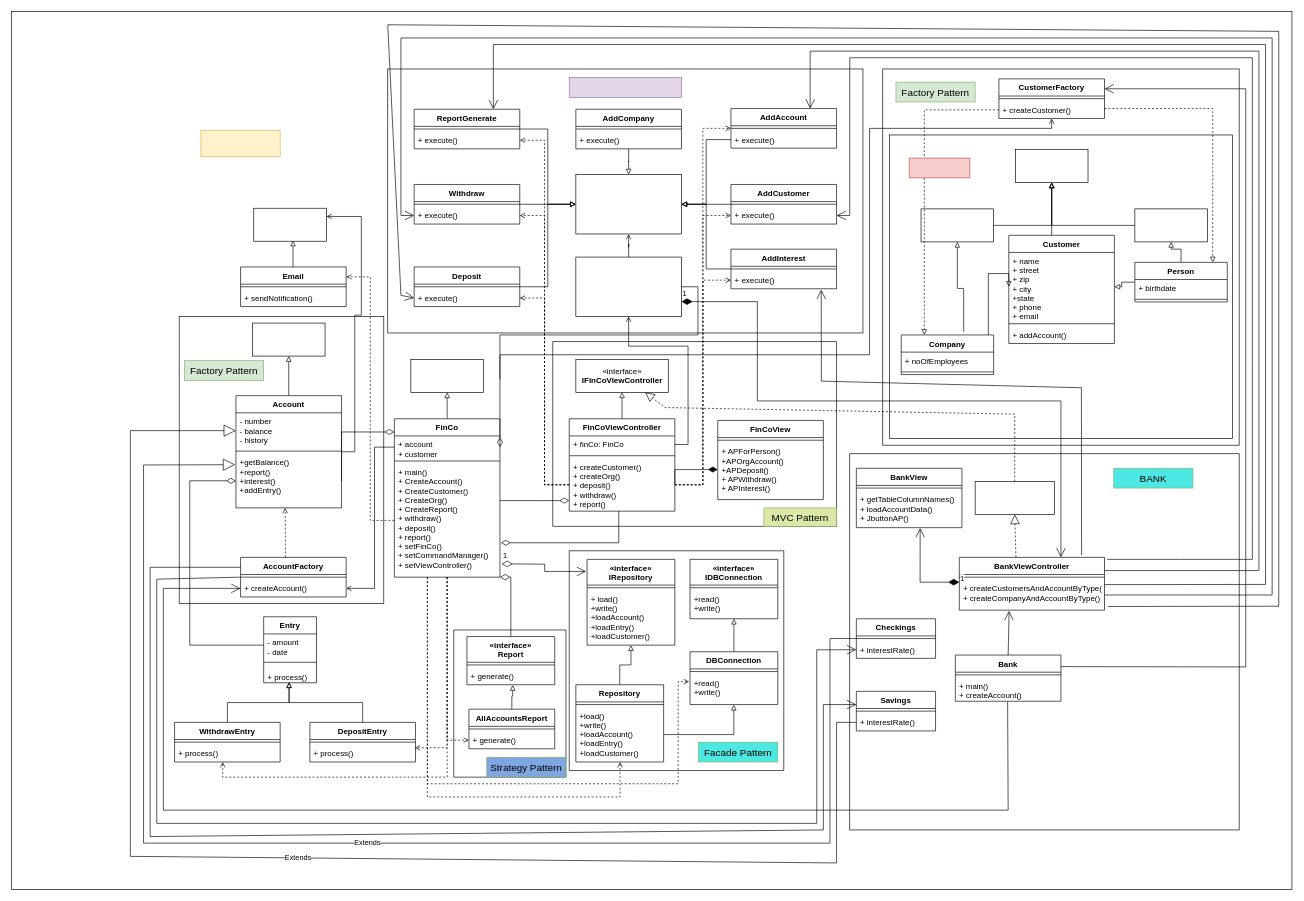
This 1304x901 diagram has some shape labels left out. Each missing label, with the centre of its shape:
"Command Pattern" goes at (x=625, y=87).
"CommandManager + invoke()" goes at (x=628, y=286).
"Framework" goes at (x=240, y=143).
"Party Pattern" goes at (x=939, y=167).
"«interface» IAccount" goes at (x=288, y=339).
"«interface» IBankViewController" goes at (x=1014, y=497).
"«interface» IComany" goes at (x=957, y=225).
"«interface» ICommand" goes at (x=628, y=204).
"«interface» ICustomer" goes at (x=1051, y=165).
"«interface» IFinco" goes at (x=446, y=375).
"«interface» INotification" goes at (x=289, y=224).
"«interface» IPerson" goes at (x=1170, y=225).
